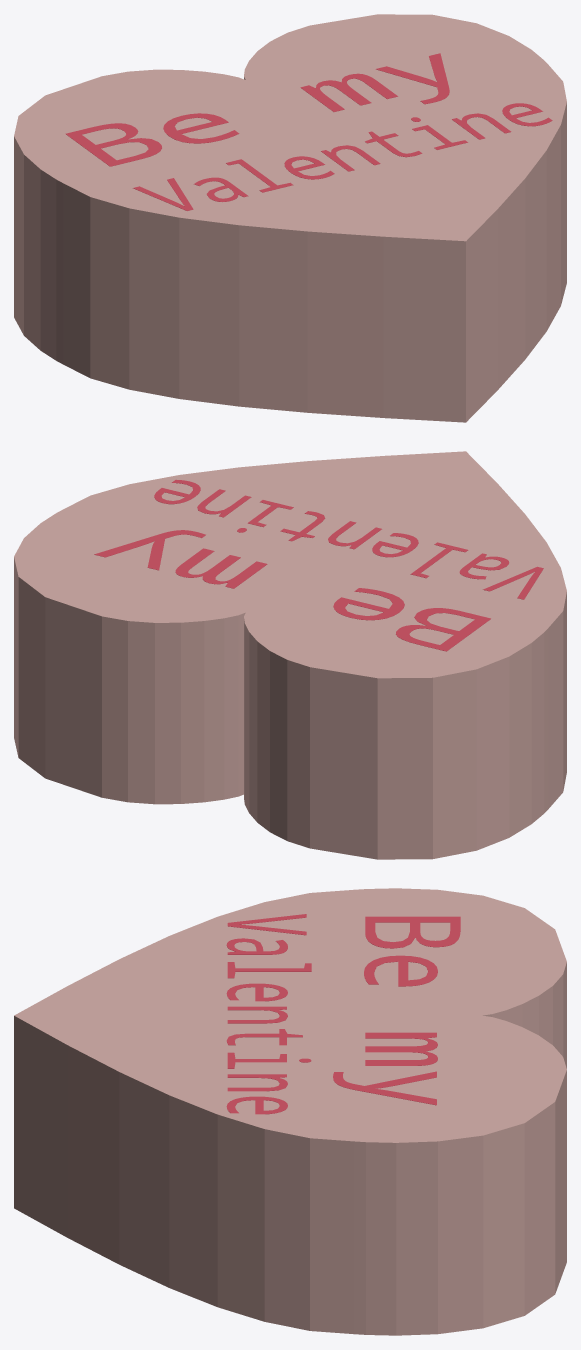
The model's file is asset.glb.
The picture shows the model from 3 angles, top to bottom: view 1: azimuth 30°, elevation 25°; view 2: azimuth 150°, elevation 25°; view 3: azimuth 270°, elevation 25°; orthographic projection. The views are drawn at different scales.
Parts seen in each view (by area): view 1: Mesh_Mesh_head_geo.001_lambert2SG.001; view 2: Mesh_Mesh_head_geo.001_lambert2SG.001; view 3: Mesh_Mesh_head_geo.001_lambert2SG.001.
Boxes of the visible parts, left/top/right/bottom form: Mesh_Mesh_head_geo.001_lambert2SG.001: left=14, top=14, right=566, bottom=422; Mesh_Mesh_head_geo.001_lambert2SG.001: left=14, top=451, right=566, bottom=859; Mesh_Mesh_head_geo.001_lambert2SG.001: left=14, top=888, right=566, bottom=1335.
Bounding box in the file's own units: 28.33 × 10.01 × 26.
